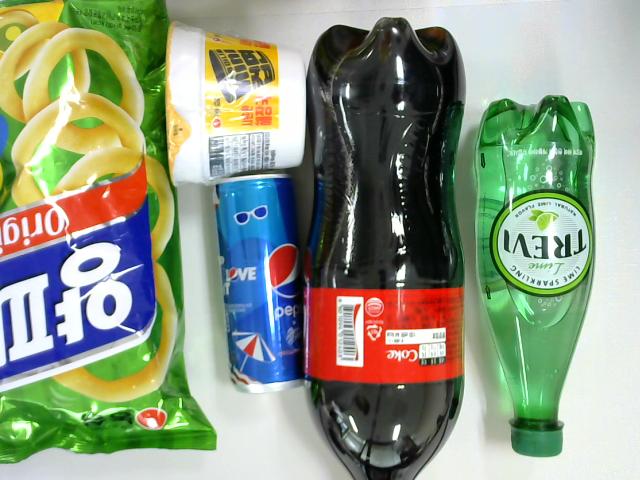Coca_Cola_1.5L: (305, 16, 466, 479)
Hejangmini: (166, 15, 306, 188)
Oninon_Ring: (1, 1, 219, 468)
Pepsi_Cola_Can_250ml: (212, 172, 304, 396)
Treviraim_500ml: (473, 94, 599, 458)
